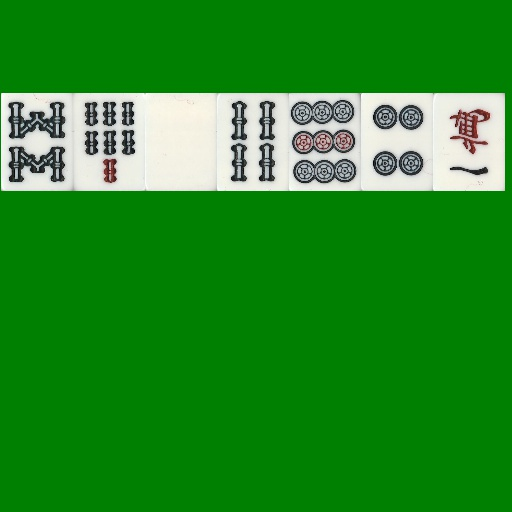1m: (433, 93, 505, 191)
4p: (361, 93, 433, 191)
4s: (217, 93, 289, 191)
7s: (73, 93, 145, 191)
8s: (1, 93, 73, 191)
9p: (289, 93, 361, 191)
white: (145, 93, 217, 191)
